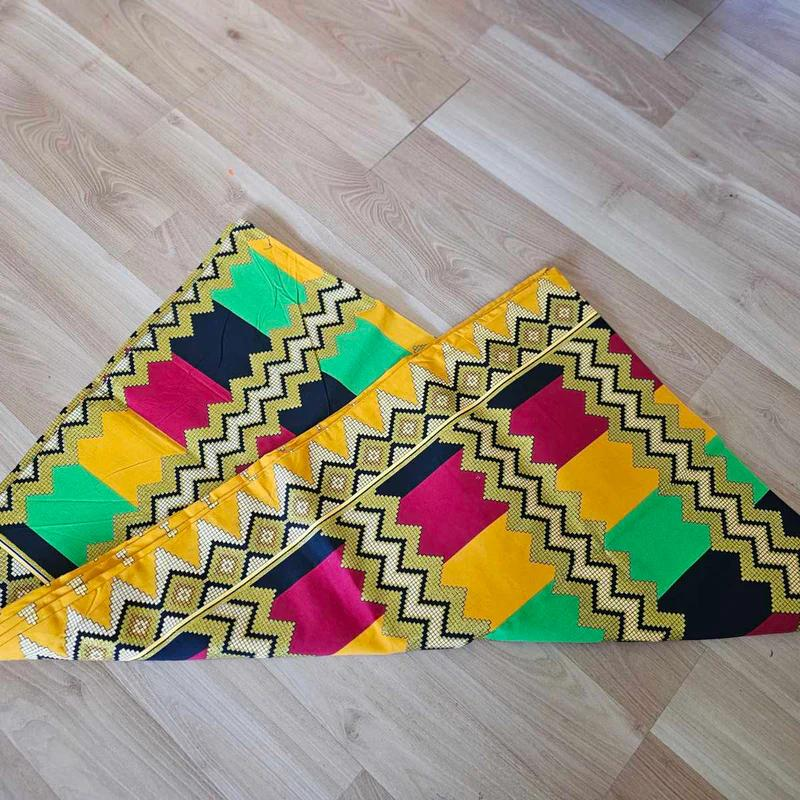malong: (0, 200, 800, 677)
